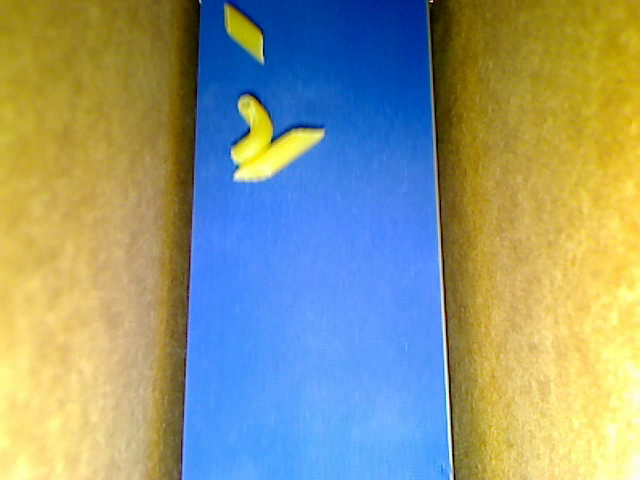elbow: (229, 93, 274, 163)
penne: (232, 128, 325, 180), (225, 4, 264, 63)
